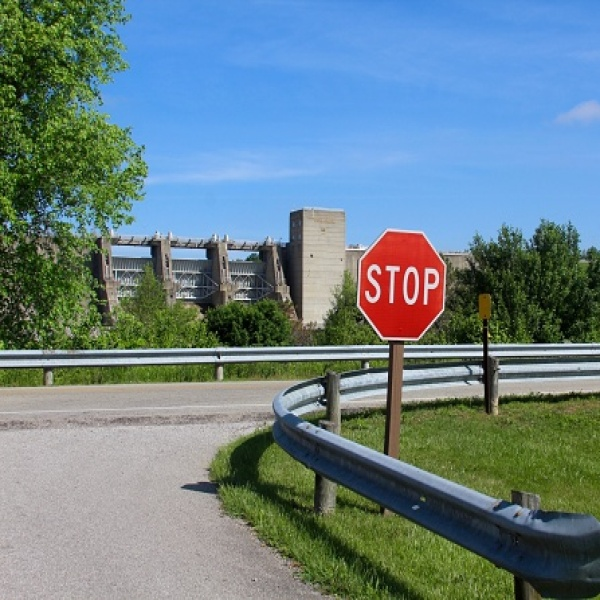stop: (351, 226, 443, 335)
